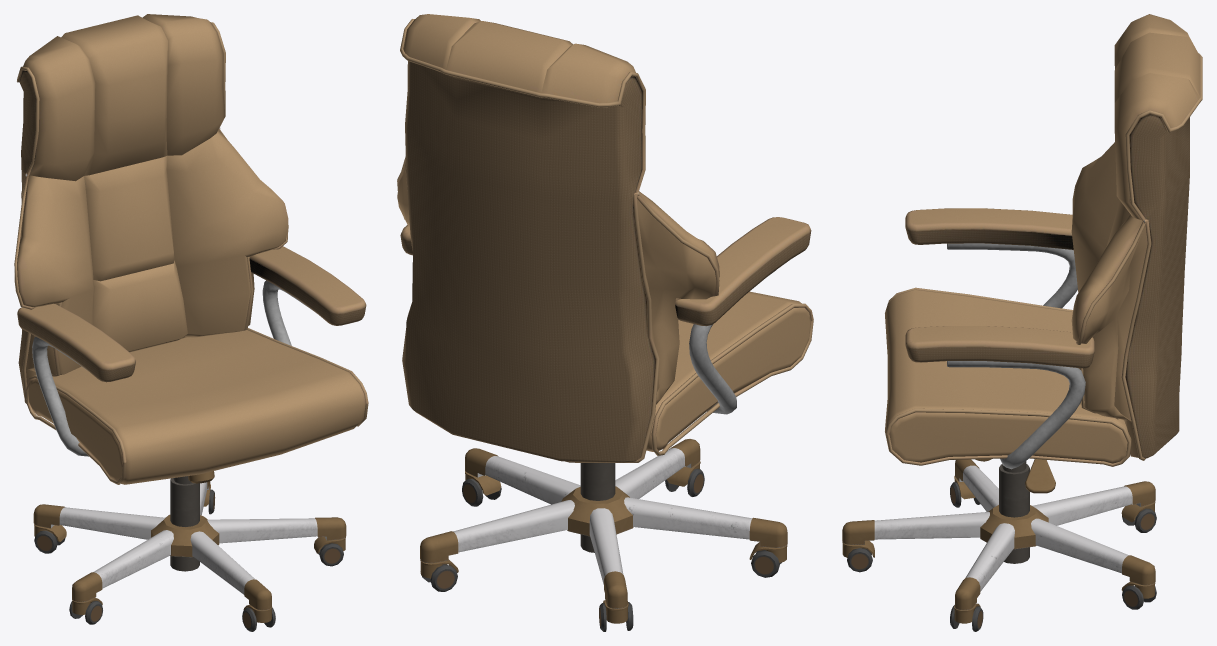
File: office_chair_v2.glb
3 renders of one model, left to right at view 1: azimuth 30°, elevation 25°; view 2: azimuth 150°, elevation 25°; view 3: azimuth 270°, elevation 25°, orthographic. The views are drawn at different scales.
Parts seen in each view (by area): view 1: up (×9), chair_woo_low (×10), sweep5; view 2: up (×7), chair_woo_low (×12), sweep5; view 3: up (×9), chair_woo_low (×12).
Boxes of the visible parts, box(x1,y1,x2,y2) form: up (×9): box(14, 14, 368, 484); chair_woo_low (×10): box(33, 476, 346, 631); sweep5: box(14, 66, 62, 376); up (×7): box(397, 14, 813, 462); chair_woo_low (×12): box(420, 439, 787, 631); sweep5: box(492, 72, 719, 300); up (×9): box(885, 14, 1202, 469); chair_woo_low (×12): box(842, 459, 1156, 631).
Size of the model in its own units: 67.39 by 117 by 73.96.
2 materials, 2 textured.
